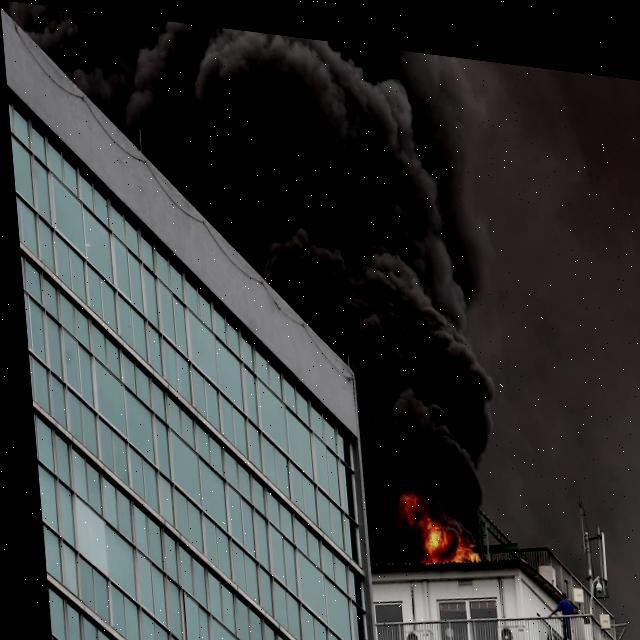Fire: (397, 488, 476, 558)
